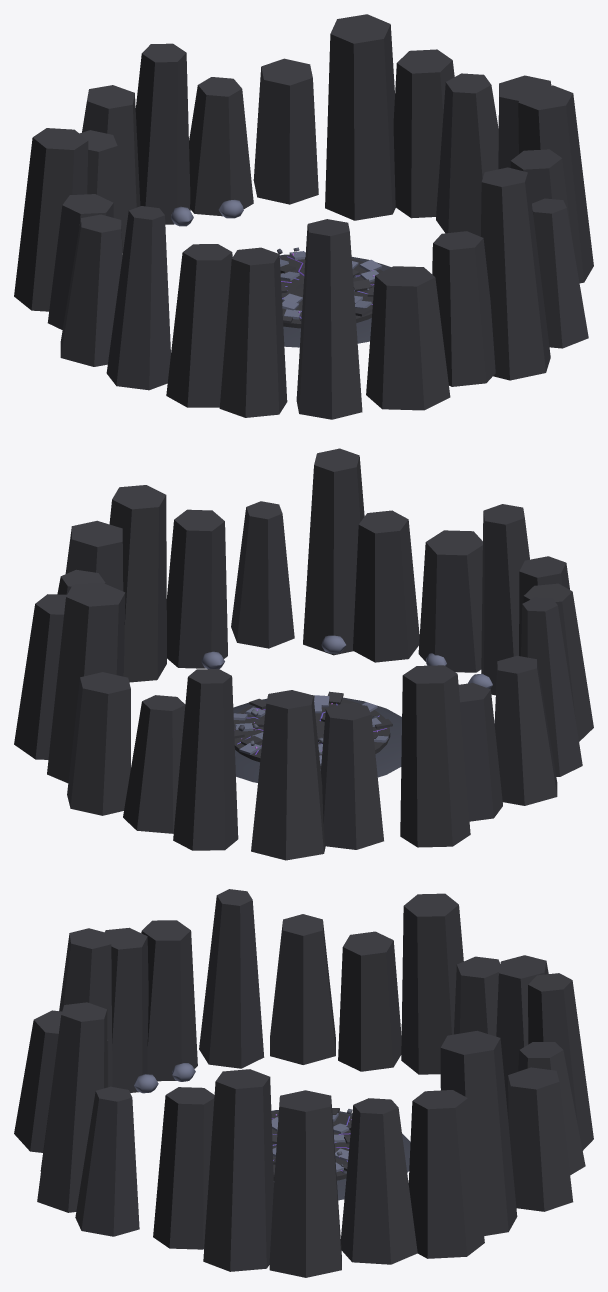
File: riftling.glb
3 views of the same model, one above another, from view 1: azimuth 30°, elevation 25°; view 2: azimuth 150°, elevation 25°; view 3: azimuth 270°, elevation 25° (orthographic).
Visible parts, largest first — view 1: RiftlingGround; view 2: RiftlingGround; view 3: RiftlingGround.
Boxes of the visible parts, bbox=[...] form: RiftlingGround: bbox=[14, 14, 593, 419]; RiftlingGround: bbox=[14, 448, 593, 860]; RiftlingGround: bbox=[14, 889, 593, 1277].
Bounding box in the file's own units: 42.54 × 14.97 × 42.08.
Materials: 1 (1 with a texture image).
